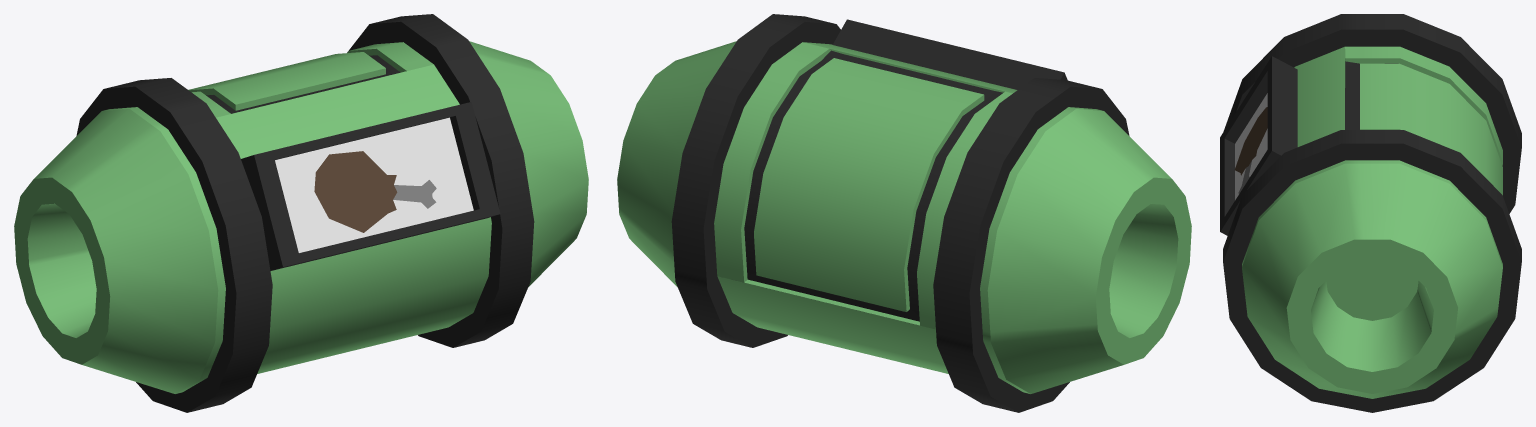
Rendered from FoodTank.fbx.
3 views of the same model, side by side, from view 1: azimuth 30°, elevation 25°; view 2: azimuth 150°, elevation 25°; view 3: azimuth 270°, elevation 25° (orthographic). The views are drawn at different scales.
Visible parts, largest first — view 1: polySurface2435; view 2: polySurface2435; view 3: polySurface2435.
Boxes of the visible parts, x1,y1,x2,y2 form: polySurface2435: [14, 14, 588, 412]; polySurface2435: [617, 14, 1191, 412]; polySurface2435: [1220, 14, 1521, 412].
Size of the model in its own units: 2.38 by 1.43 by 1.45.
